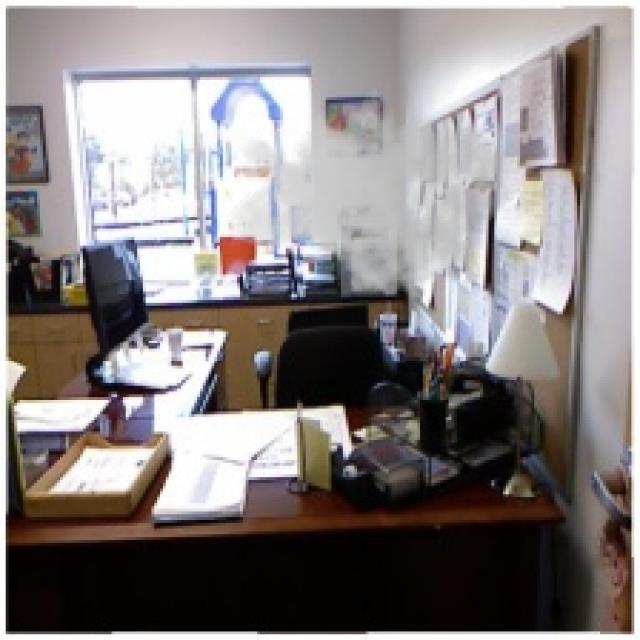smoke: (228, 77, 512, 306)
